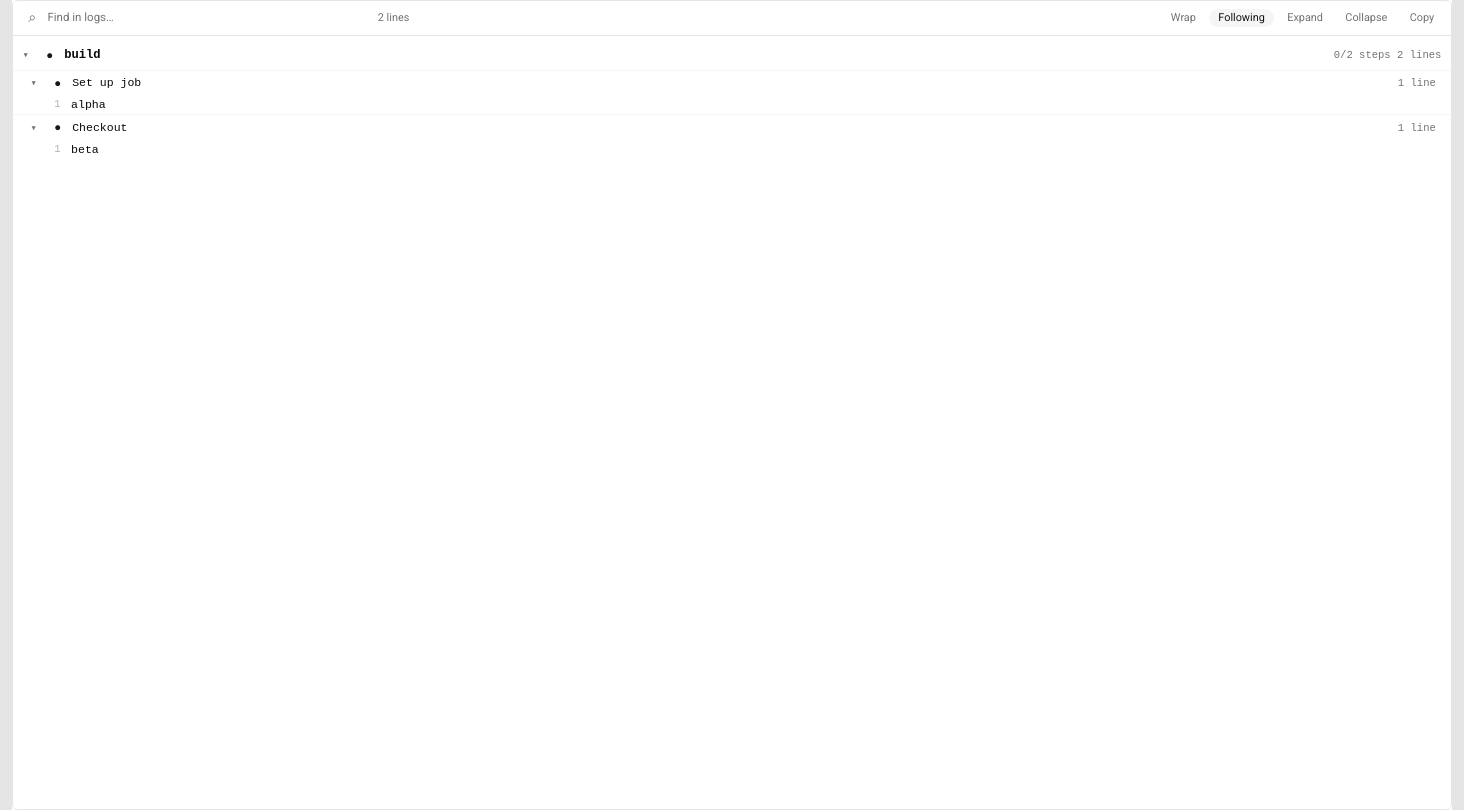
Test: WorkflowLogViewer › renders individual steps as collapsible sections and allows toggling them
This screenshot has width=1464, height=810.
Check: the button with class "log-step-head" shows "Checkout", box x1=13 y1=115 x2=1451 y2=140
Click the button with class "log-step-head" showing "▾ ● Set up job 1 line": (107, 83) x1=13 y1=71 x2=1451 y2=96
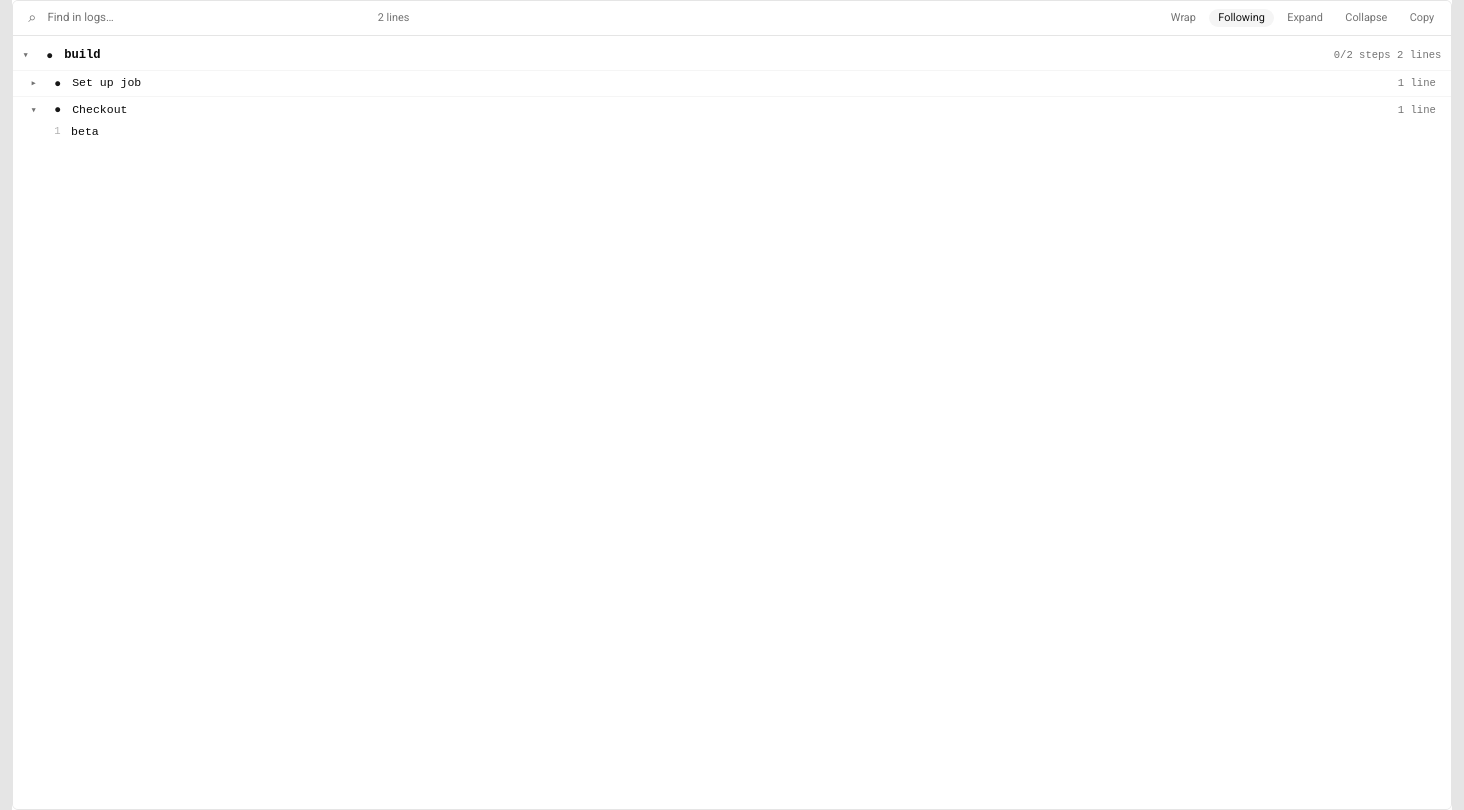
Check: the button with class "log-step-head" is collapsed
Click the button with class "log-step-head" showing "▸ ● Set up job 1 line": (107, 83) x1=13 y1=71 x2=1451 y2=96
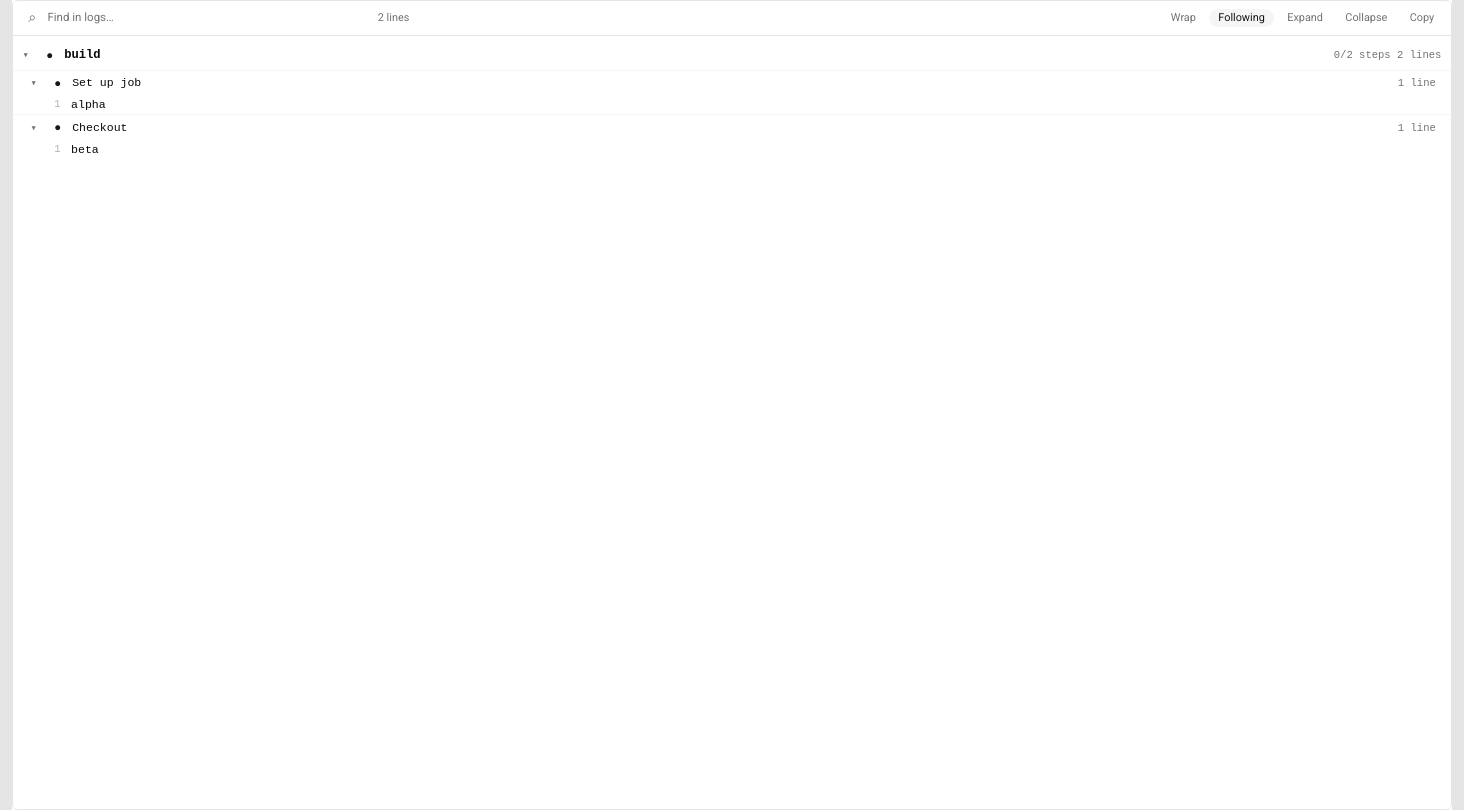
Check: the button with class "log-step-head" is expanded, box x1=13 y1=71 x2=1451 y2=96
